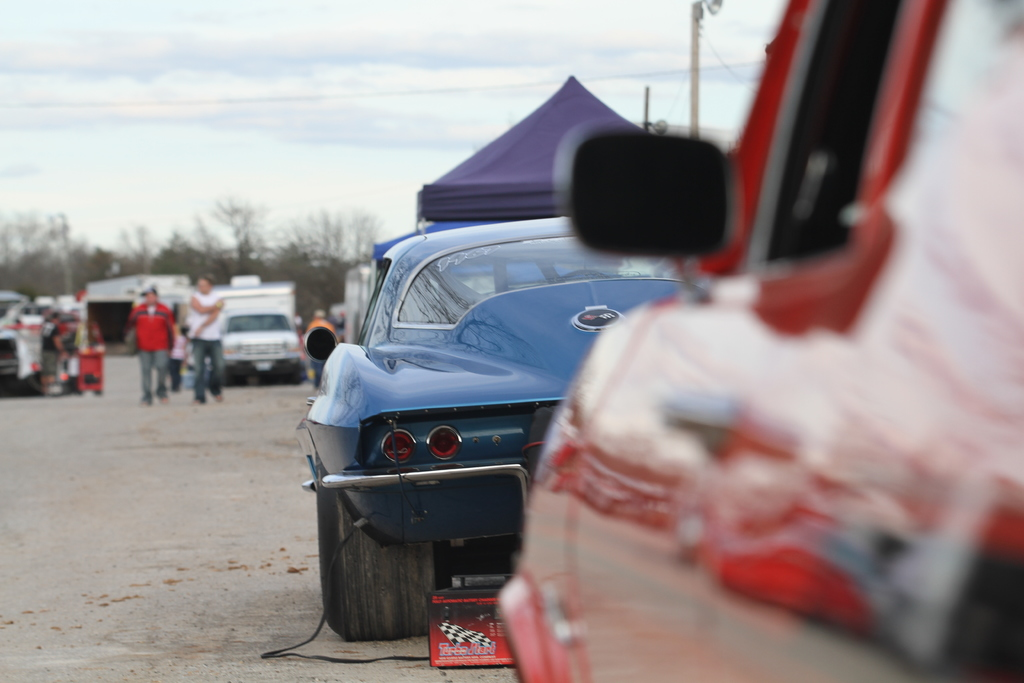Car: (483, 0, 1023, 682), (290, 208, 696, 640), (0, 304, 117, 417), (213, 299, 307, 390)
